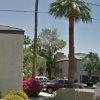Palm tree: (48, 3, 100, 93)
